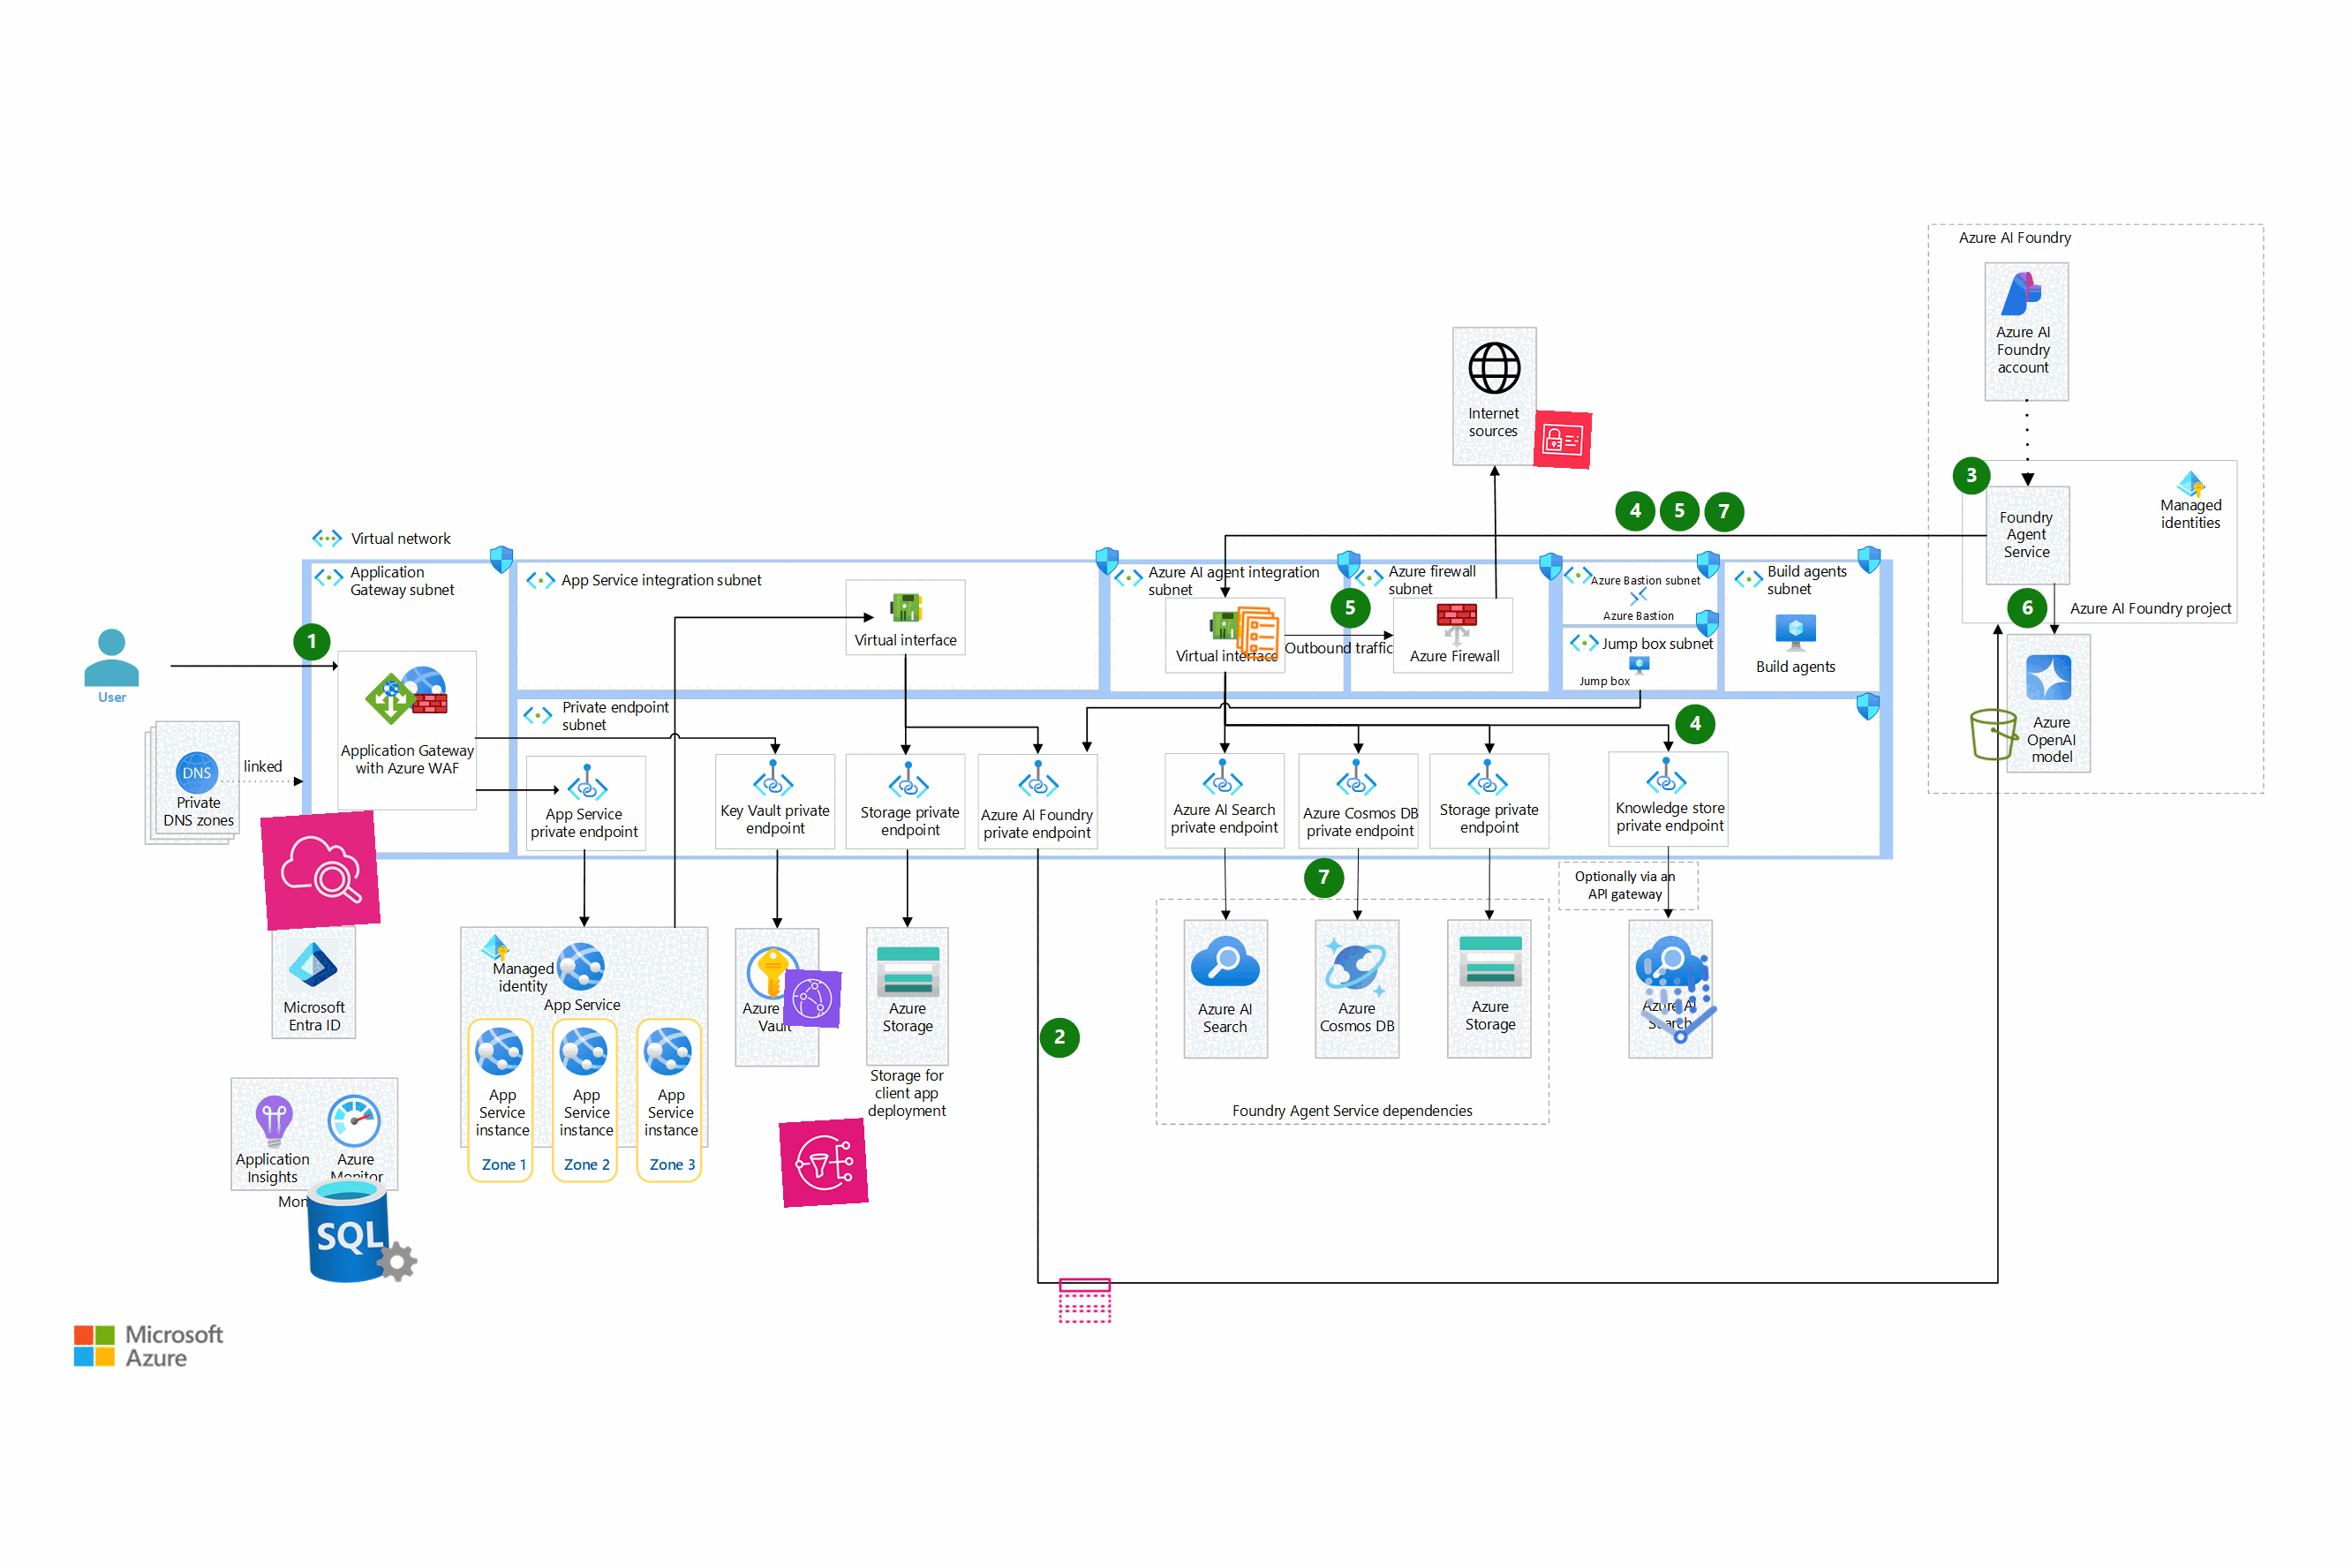aws_amazon_cloudfront: (782, 968, 842, 1029)
aws_amazon_cloudwatch: (259, 810, 381, 931)
aws_amazon_simple_notification_service: (779, 1118, 868, 1207)
aws_elastic_container_service_service: (1228, 604, 1288, 663)
aws_identity_and_access_management: (1533, 409, 1592, 469)
aws_simple_notification_service_topic: (1055, 1270, 1115, 1330)
aws_simple_storage_service_bucket: (1965, 705, 2023, 763)
azure_sql_server: (303, 1171, 422, 1290)
gcp_vertex_ai: (1619, 940, 1738, 1060)
